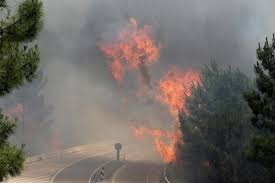fire: (104, 17, 201, 159)
